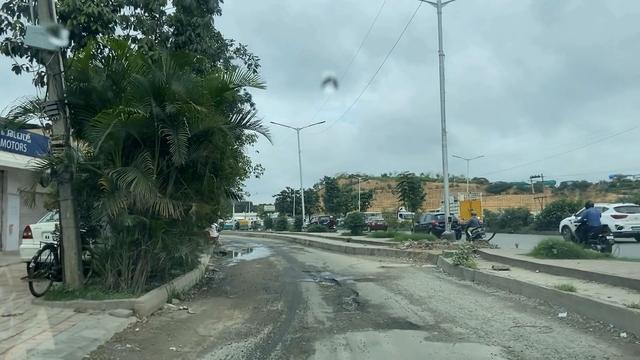RoadDamages: (304, 261, 430, 339)
